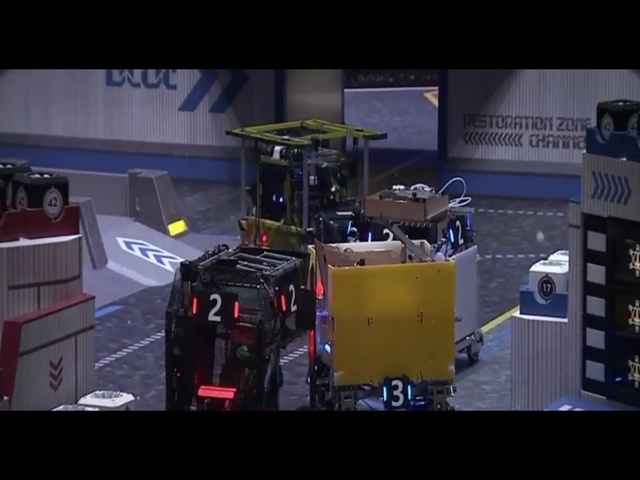plate: (190, 289, 242, 329), (381, 374, 414, 410), (278, 281, 306, 313), (445, 215, 472, 248), (364, 224, 411, 242)
